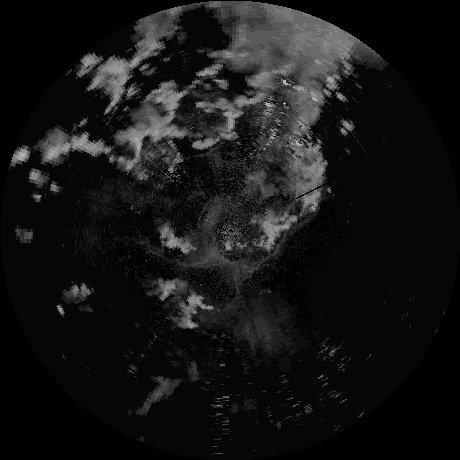frontgust: (264, 217, 309, 259), (144, 245, 192, 267), (197, 140, 226, 156)
